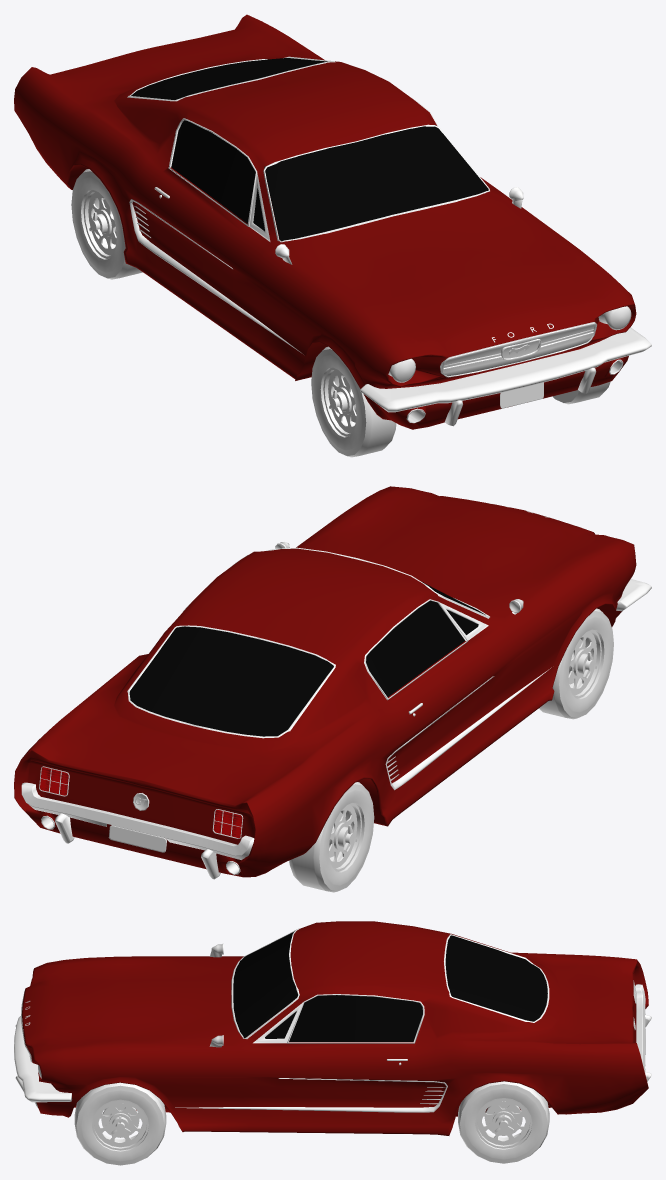
File: car.glb
3 renders of one model, top to bottom at view 1: azimuth 30°, elevation 25°; view 2: azimuth 150°, elevation 25°; view 3: azimuth 270°, elevation 25°, orthographic. The views are drawn at different scales.
Visible parts, largest first — view 1: Plane.010, Plane.000, Plane.003; view 2: Plane.010, Plane.003, Plane.000; view 3: Plane.010, Plane.015, Plane.002.
Part boxes in pixels (left/top/right/bottom): Plane.010: left=14, top=14, right=651, bottom=429; Plane.000: left=311, top=346, right=396, bottom=457; Plane.003: left=71, top=169, right=142, bottom=279; Plane.010: left=14, top=486, right=651, bottom=879; Plane.003: left=289, top=782, right=374, bottom=892; Plane.000: left=539, top=608, right=613, bottom=719; Plane.010: left=14, top=921, right=651, bottom=1135; Plane.015: left=74, top=1082, right=166, bottom=1165; Plane.002: left=458, top=1081, right=549, bottom=1163.
Bounding box in the file's own units: 2.37 × 1.8 × 6.12.
8 materials, 1 textured.
